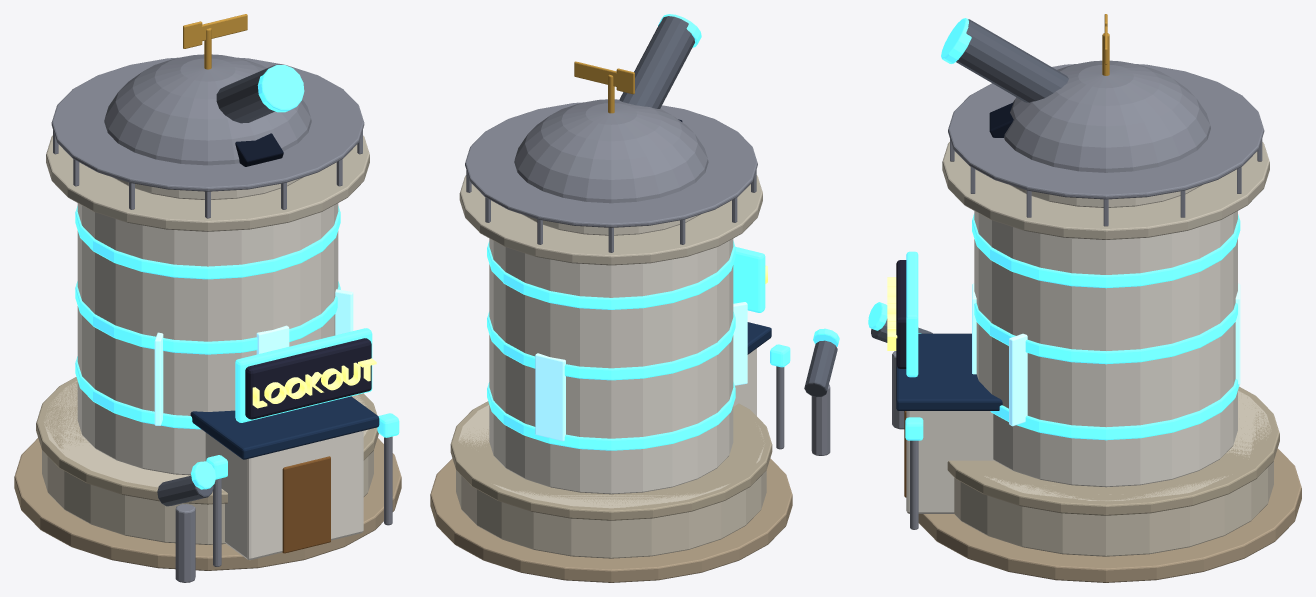
Rendered from observatory-B73kmjYI.glb.
3 views of the same model, side by side, from view 1: azimuth 30°, elevation 25°; view 2: azimuth 150°, elevation 25°; view 3: azimuth 270°, elevation 25° (orthographic). The views are drawn at different scales.
Visible parts, largest first — view 1: tower, rail_top, dome, terrace, door_porch, drum, plinth, porch_roof, sign_board, drum_band, door, tower_band_2 (+17 smaller); view 2: tower, dome, drum, rail_top, plinth, drum_band, terrace, scope, tower_band_2, tower_band_0, tower_band_1, slit_3 (+9 smaller); view 3: tower, dome, drum, rail_top, plinth, terrace, drum_band, door_porch, porch_roof, scope, tower_band_2, tower_band_1 (+9 smaller).
Boxes of the visible parts, x1,y1,x2,y2 form: tower: [77, 203, 338, 475]; rail_top: [51, 57, 364, 191]; dome: [104, 54, 311, 165]; terrace: [46, 135, 369, 231]; door_porch: [205, 431, 363, 559]; drum: [42, 381, 373, 544]; plinth: [14, 438, 401, 570]; porch_roof: [190, 396, 379, 459]; sign_board: [245, 338, 371, 419]; drum_band: [36, 377, 378, 504]; door: [282, 456, 330, 553]; tower_band_2: [75, 206, 340, 279]; tower: [489, 238, 733, 494]; dome: [514, 99, 708, 203]; drum: [456, 405, 766, 558]; rail_top: [465, 102, 757, 227]; plinth: [430, 458, 792, 582]; drum_band: [450, 401, 772, 520]; terrace: [459, 175, 762, 265]; scope: [619, 16, 694, 108]; tower_band_2: [487, 241, 735, 309]; tower_band_0: [487, 382, 735, 450]; tower_band_1: [487, 311, 735, 380]; slit_3: [535, 353, 565, 441]; tower: [974, 211, 1237, 487]; dome: [1004, 60, 1210, 172]; drum: [954, 390, 1273, 556]; rail_top: [948, 64, 1264, 199]; plinth: [918, 448, 1301, 582]; terrace: [942, 142, 1269, 239]; drum_band: [947, 386, 1279, 515]; door_porch: [906, 411, 993, 513]; porch_roof: [896, 333, 1002, 410]; scope: [956, 19, 1068, 102]; tower_band_2: [972, 214, 1240, 288]; tower_band_1: [974, 303, 1237, 364].
Size of the model in its own units: 9.8 by 13.27 by 10.86.
